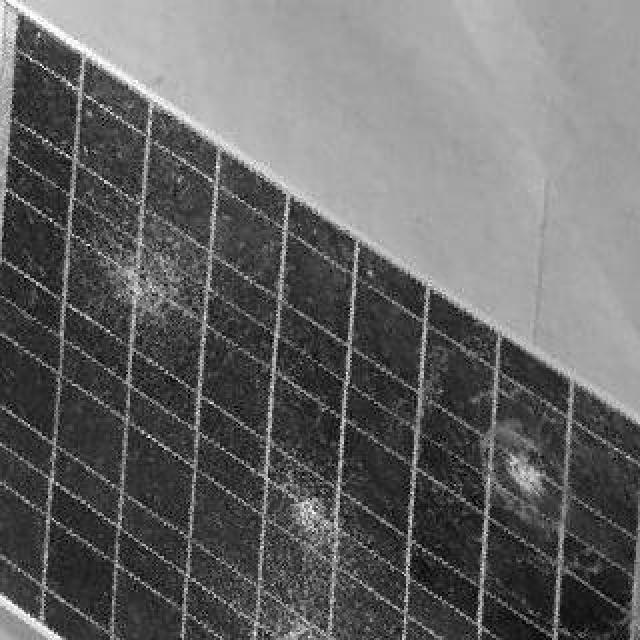Physical-damage: (448, 412, 578, 535), (100, 236, 202, 326), (264, 470, 358, 564), (270, 598, 354, 640)
